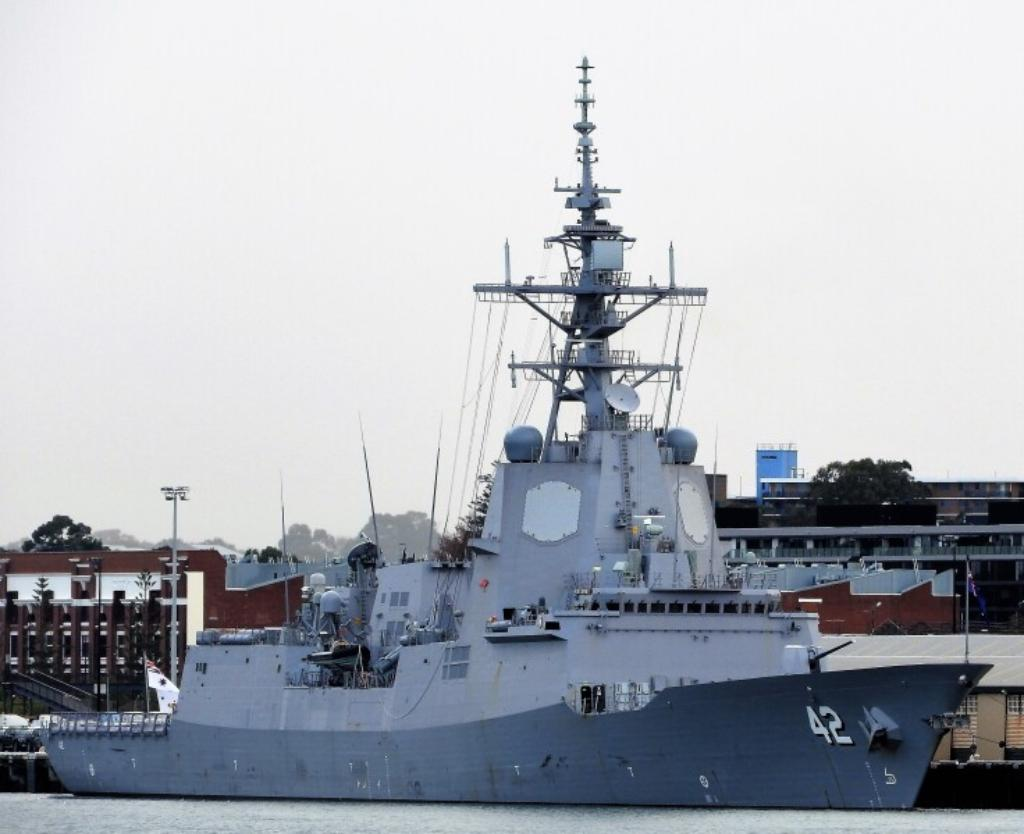Warship: (36, 52, 998, 812)
